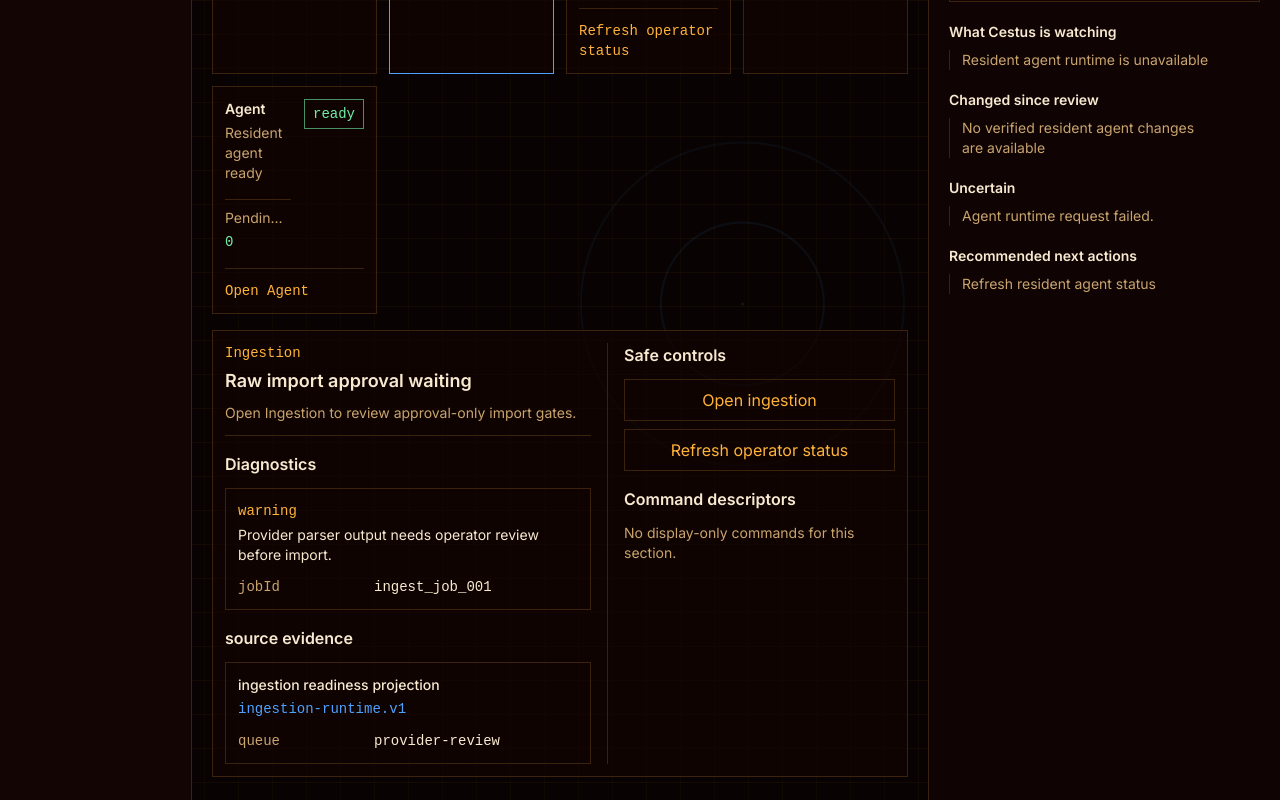
operator cockpit app integration › opens the Ingestion module from the cockpit navigation action
(page scrolled)
Click the button "Open ingestion" at (760, 400), box [624, 379, 895, 421]
(page scrolled)
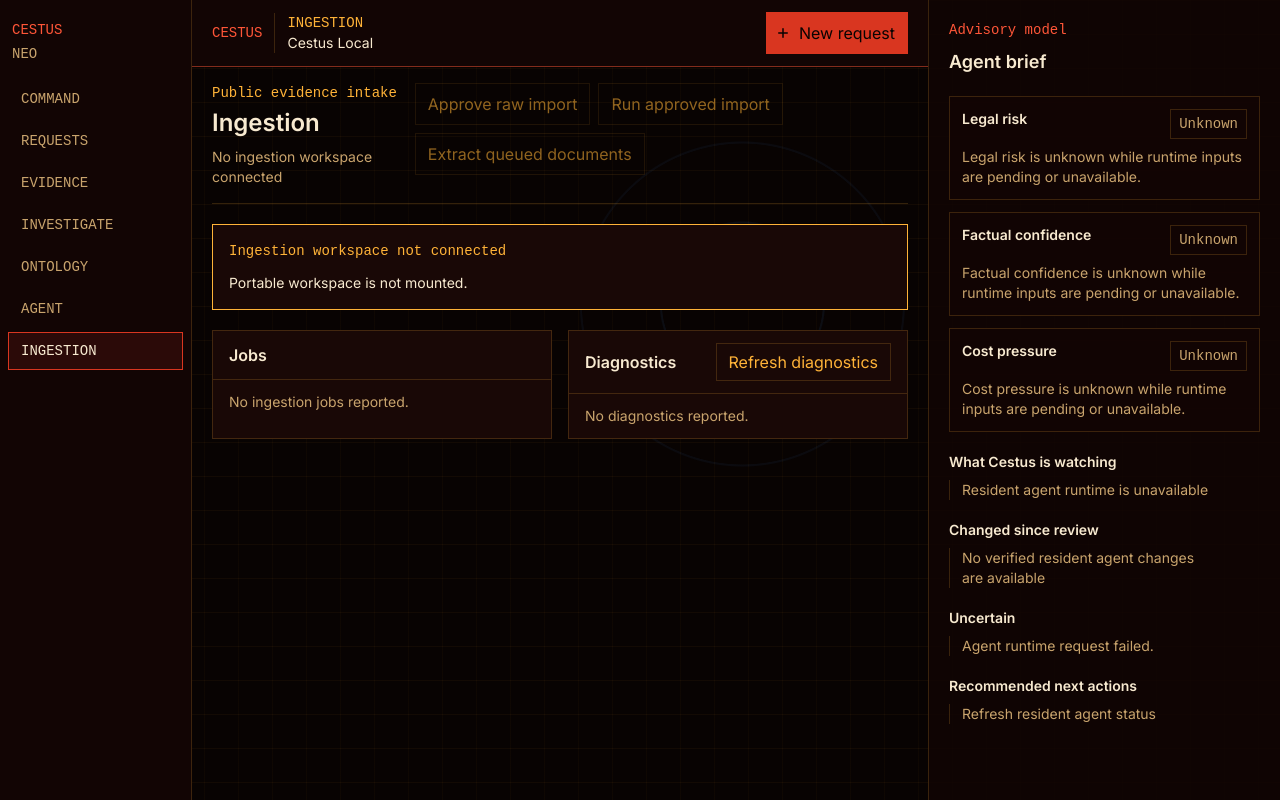
expect the heading "Ingestion" is shown: met, box [212, 108, 320, 137]
expect the element "Ingestion workspace not connected" is shown: met, box [212, 224, 908, 310]
